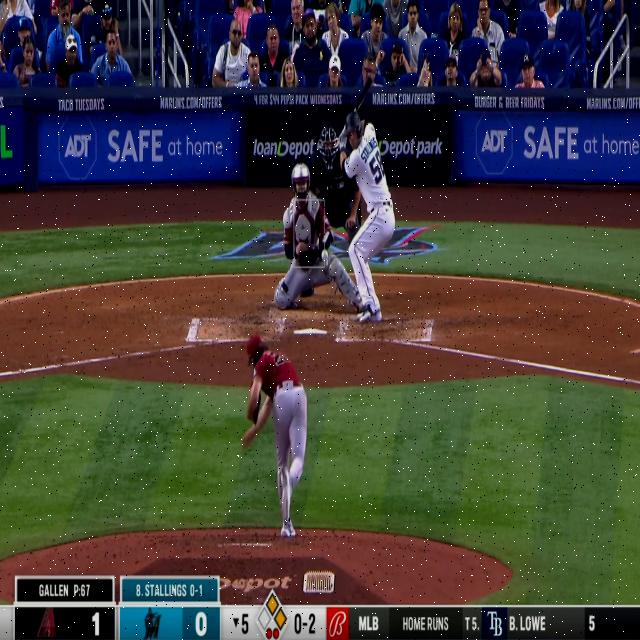baseball: (321, 247, 329, 264)
